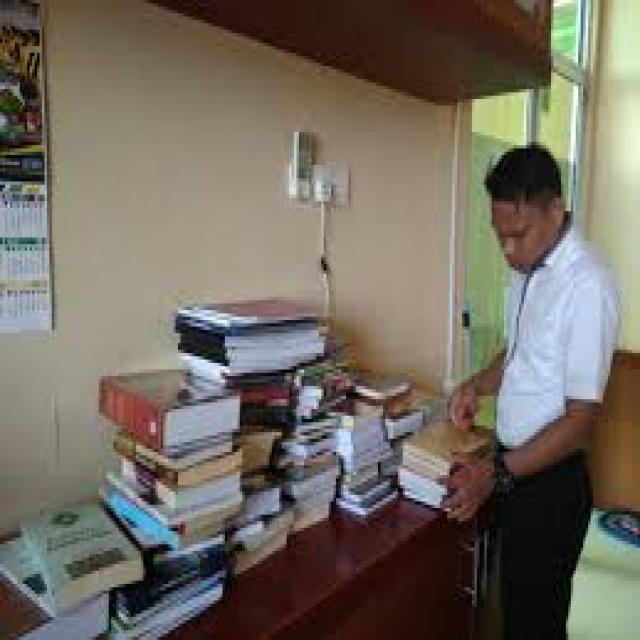book: (19, 501, 143, 610), (96, 368, 243, 449)
